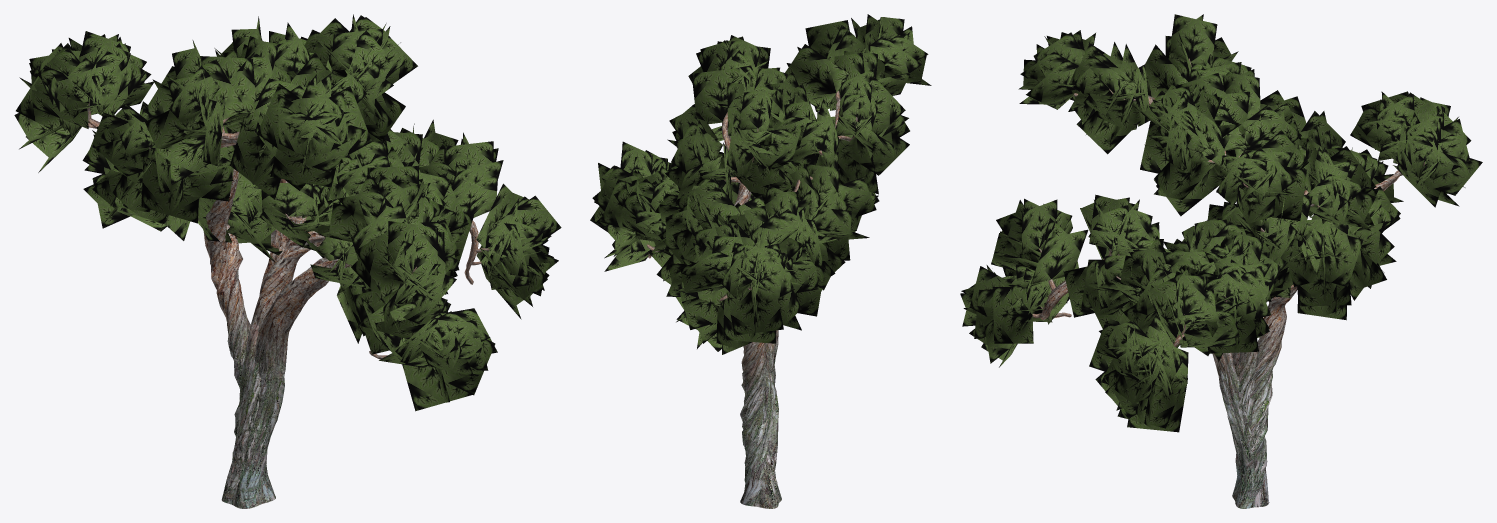
Rendered from Tree_03_v5.obj.
The picture shows the model from 3 angles, left to right: view 1: azimuth 30°, elevation 25°; view 2: azimuth 150°, elevation 25°; view 3: azimuth 270°, elevation 25°; orthographic projection. The views are drawn at different scales.
Parts seen in each view (by area): view 1: bark08, pine branch_t; view 2: bark08, pine branch_t; view 3: bark08, pine branch_t.
Boxes of the visible parts, x1,y1,x2,y2 form: bark08: [14, 14, 561, 411]; pine branch_t: [87, 102, 494, 508]; bark08: [590, 14, 931, 354]; pine branch_t: [646, 91, 857, 508]; bark08: [960, 14, 1482, 432]; pine branch_t: [1032, 58, 1424, 508].
Size of the model in its own units: 200 by 251 by 264.
2 materials, 2 textured.
